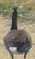goose: (3, 6, 33, 59)
